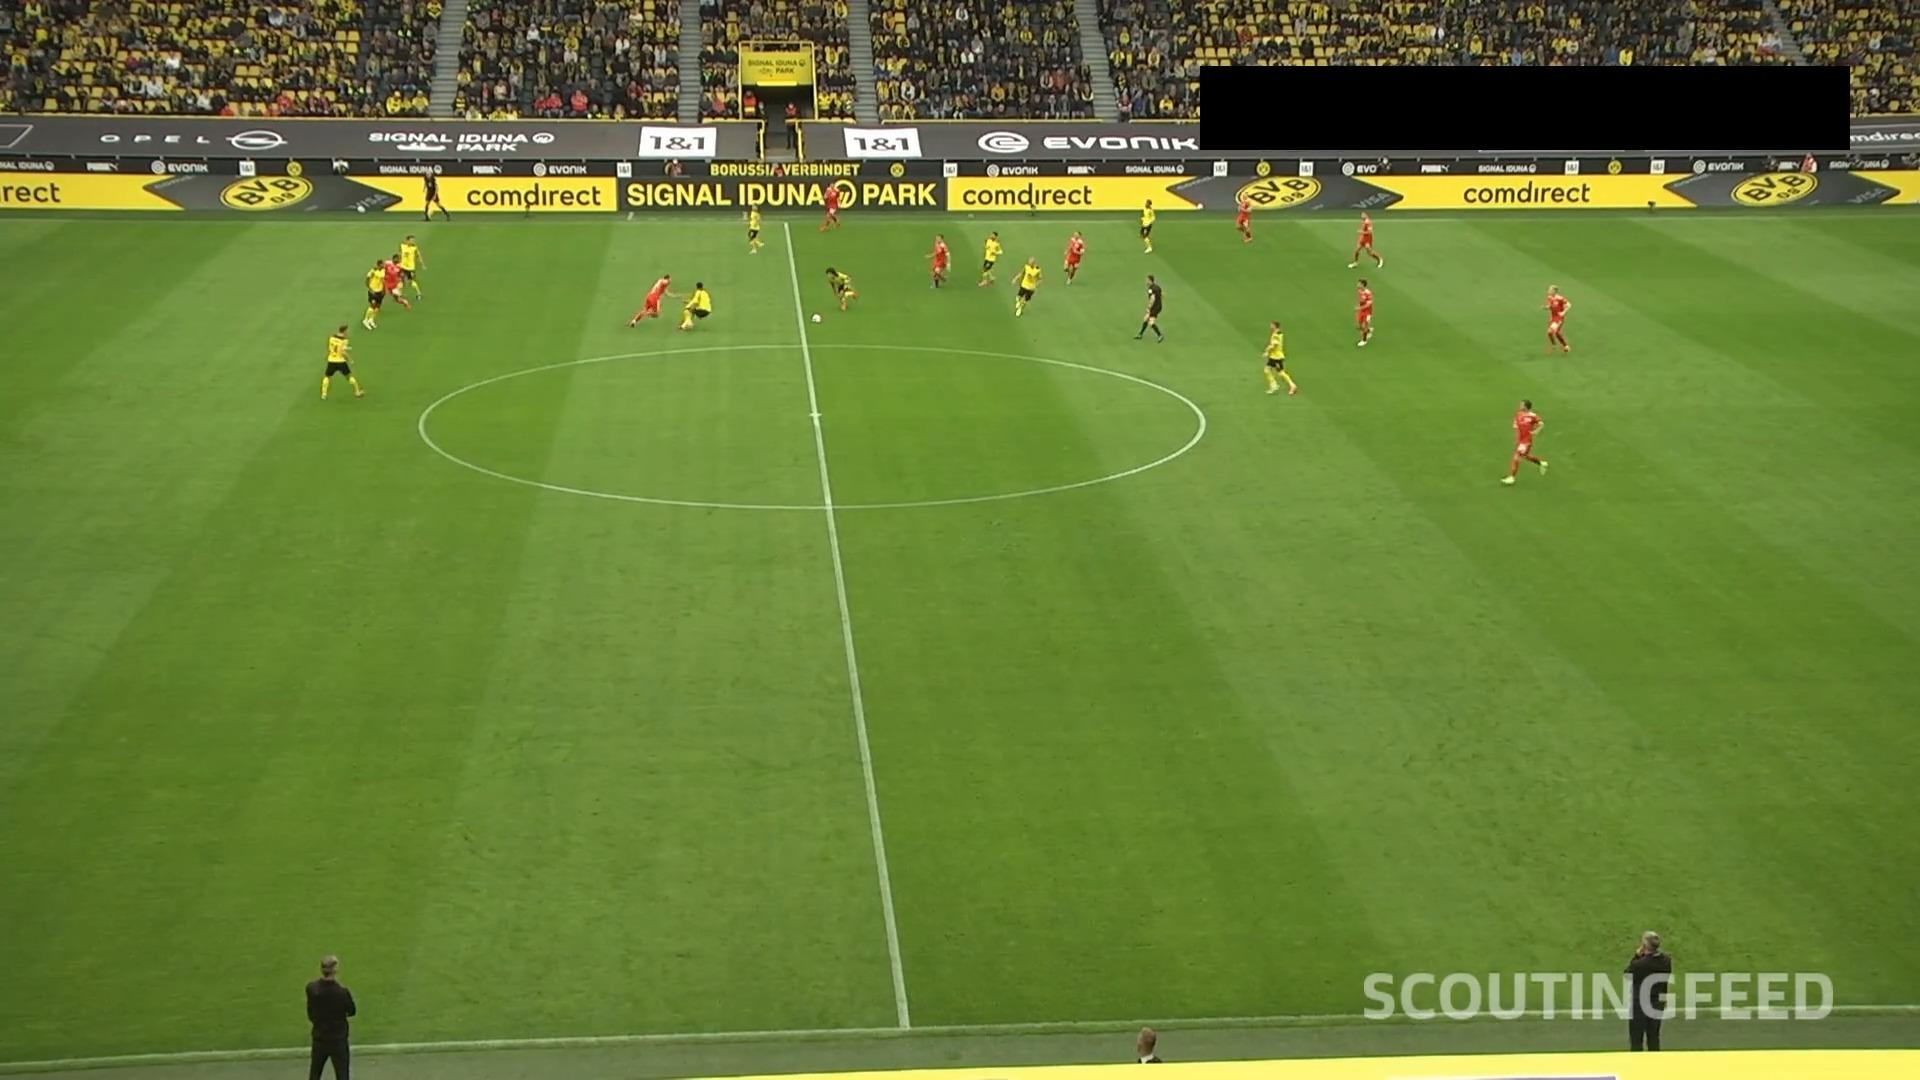ball: (810, 311, 823, 326)
